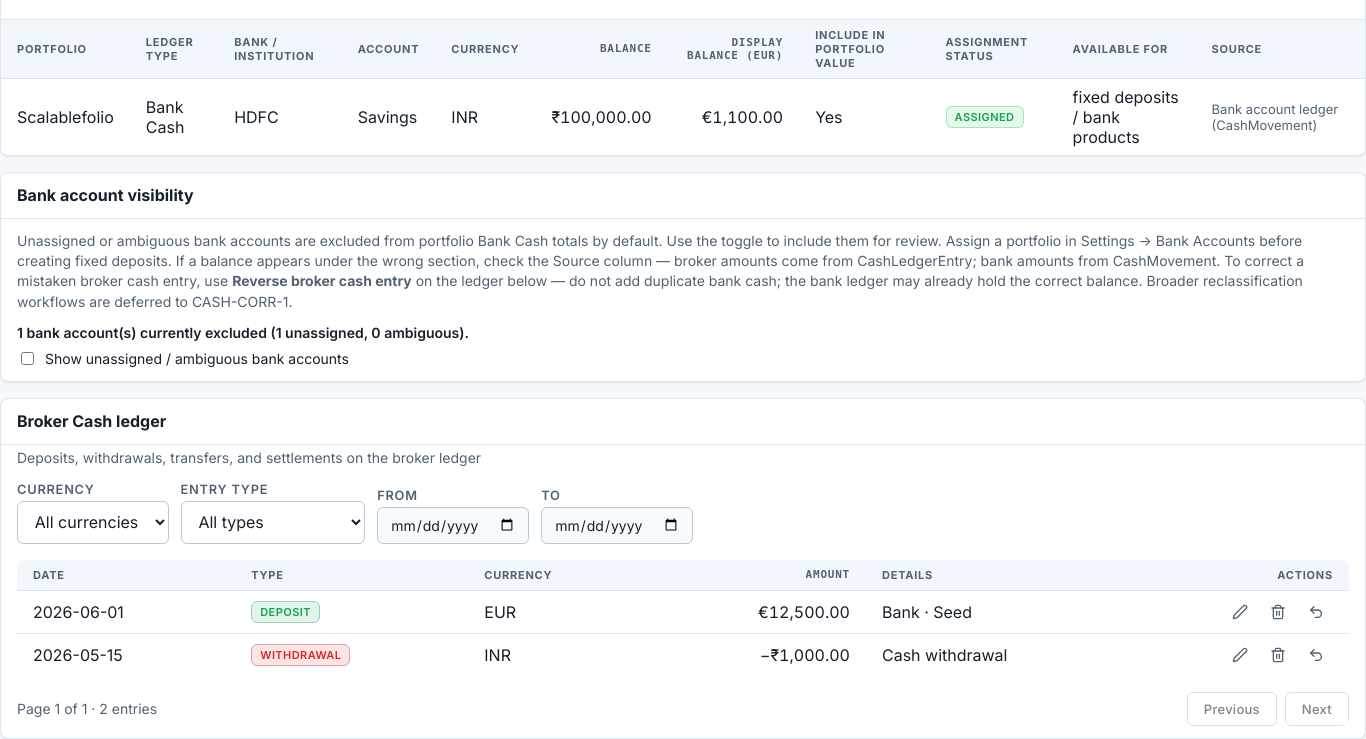
Cash page › delete confirms and refreshes ledger
(page scrolled)
Click the button named "Delete Deposit": point(1278, 612) left=1261, top=599, right=1295, bottom=625
(page scrolled)
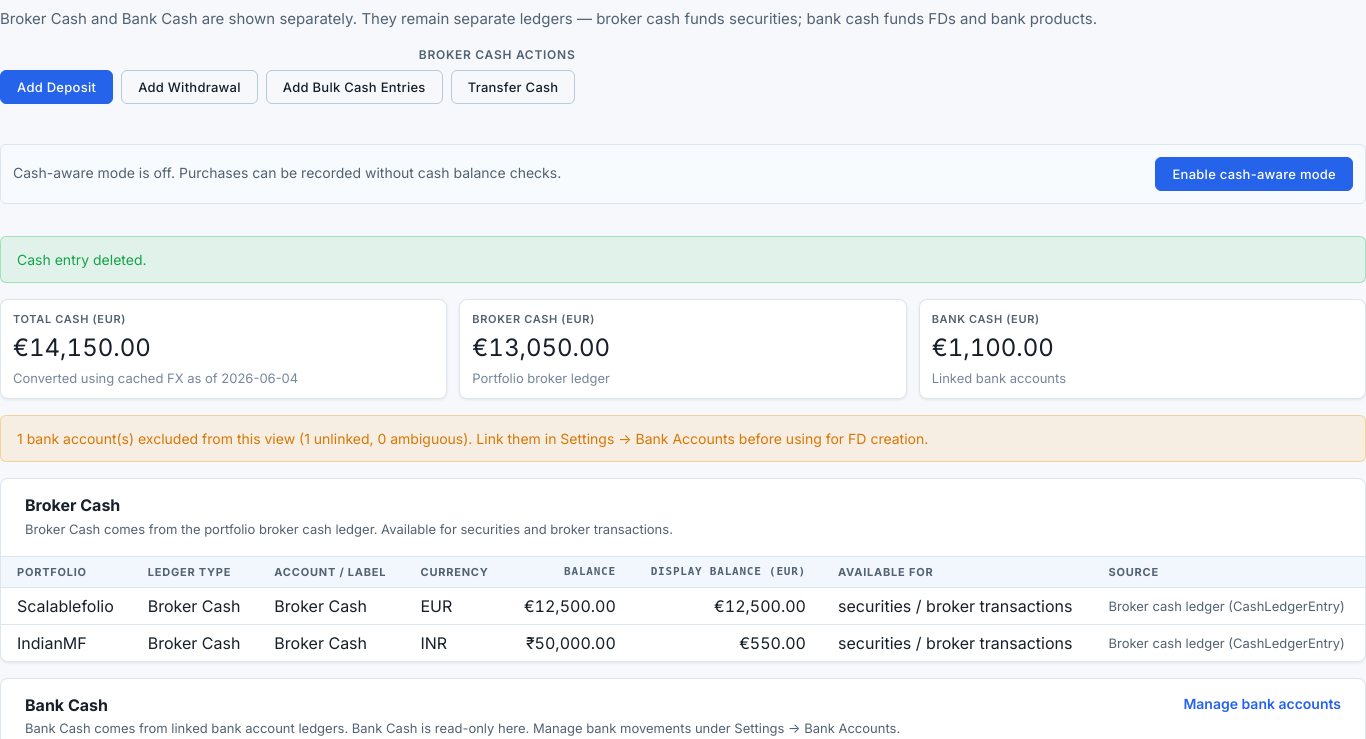
Now the text "Cash entry deleted." is shown, box left=17, top=248, right=146, bottom=270
